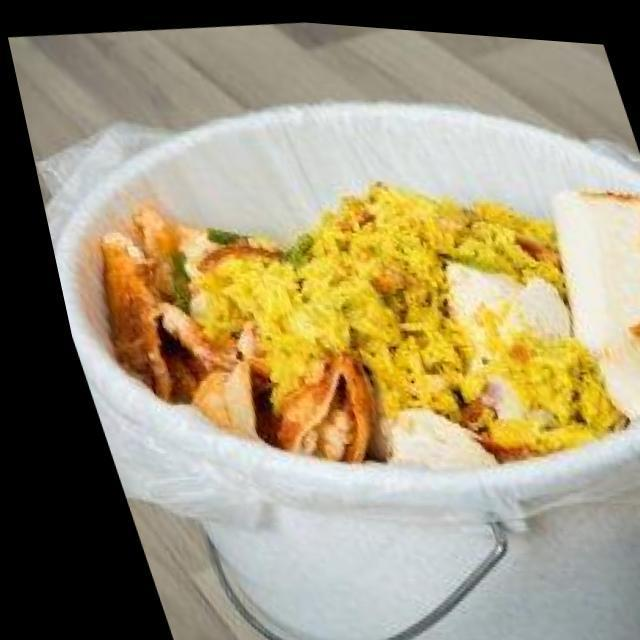Garbage: (91, 177, 640, 459)
